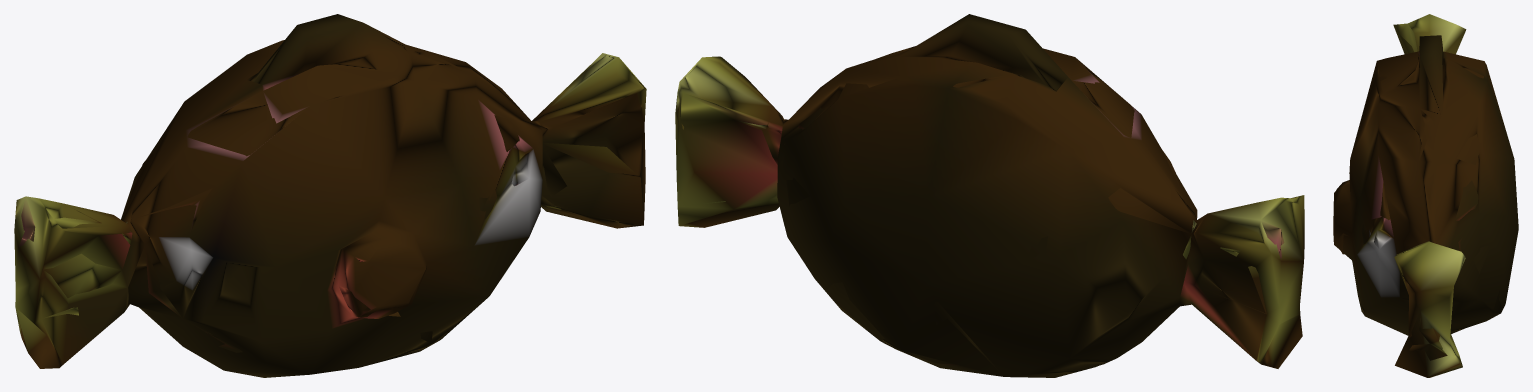
Rendered from gen3d-pufferfish-lod1.glb.
3 views of the same model, side by side, from view 1: azimuth 30°, elevation 25°; view 2: azimuth 150°, elevation 25°; view 3: azimuth 270°, elevation 25° (orthographic). The views are drawn at different scales.
Parts seen in each view (by area): view 1: part_0; view 2: part_0; view 3: part_0.
Boxes of the visible parts, <box> form: part_0: <box>14,14,646,377</box>; part_0: <box>675,14,1304,377</box>; part_0: <box>1333,14,1518,377</box>.
Bounding box in the file's own units: 1.82 × 0.9949 × 0.6006.
